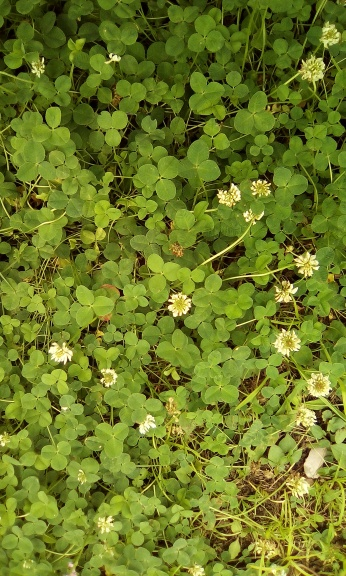4leaf: (122, 283, 150, 311)
